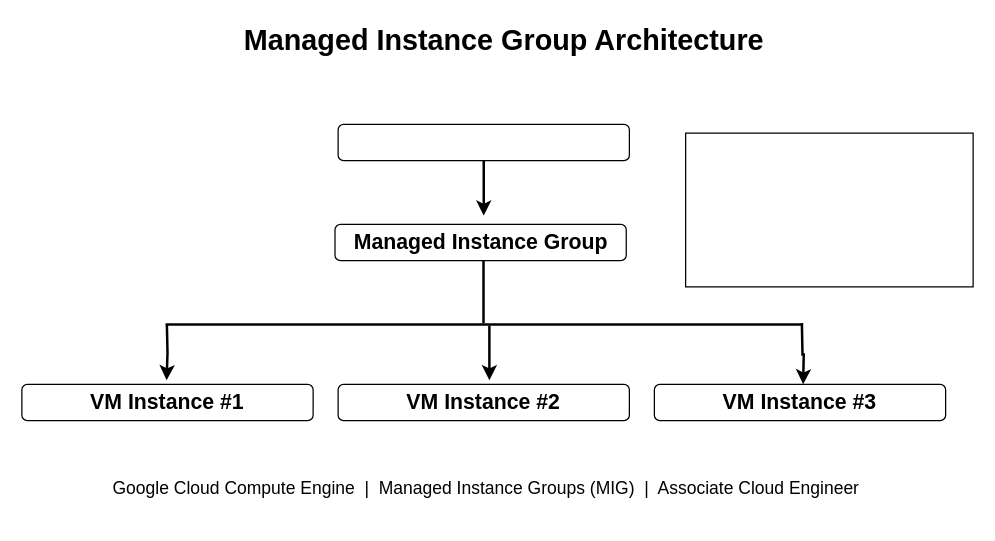
Some shapes in this 995 by 541 pixel diagram are drawn without their labels. Each missing label, with the centre of its shape:
"Instance Template" goes at point (483, 142).
"Managed Instance Group Features • Autoscaling • Self-healing • Rolling updates" goes at point (828, 209).
